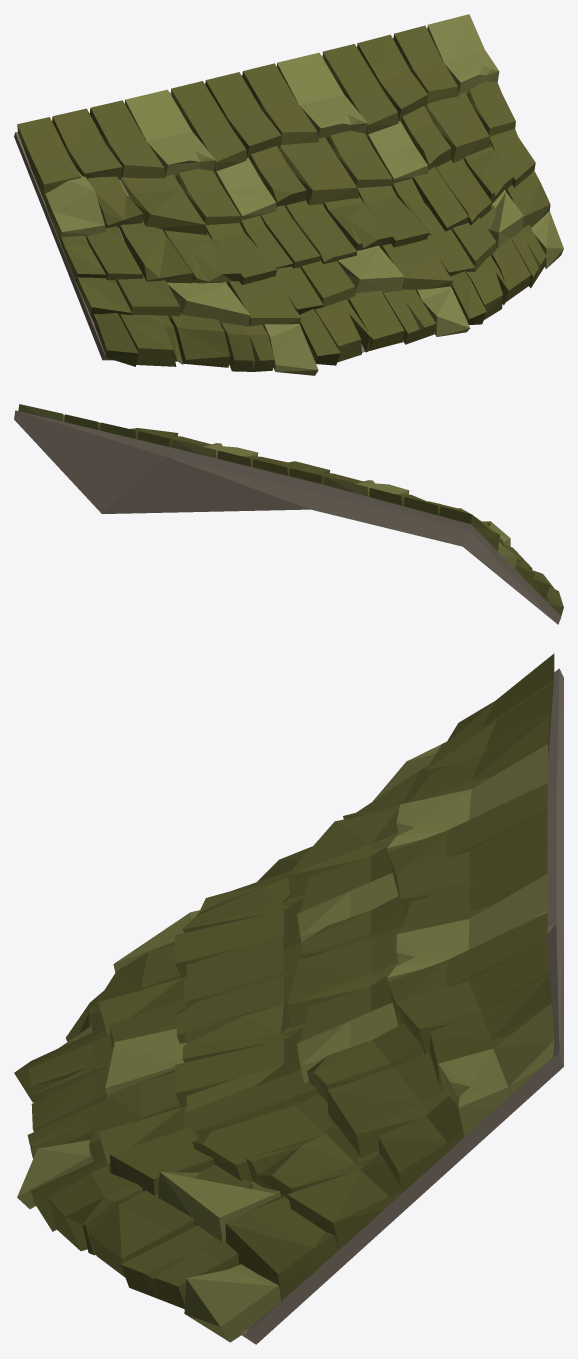
The model's file is _ROOF_base_round_1.fbx.
3 renders of one model, top to bottom at view 1: azimuth 30°, elevation 25°; view 2: azimuth 150°, elevation 25°; view 3: azimuth 270°, elevation 25°, orthographic. The views are drawn at different scales.
Visible parts, largest first — view 1: ROOF_base_round_1; view 2: ROOF_base_round_1; view 3: ROOF_base_round_1.
Boxes of the visible parts, x1,y1,x2,y2 form: ROOF_base_round_1: [14, 14, 563, 375]; ROOF_base_round_1: [14, 404, 563, 624]; ROOF_base_round_1: [14, 653, 563, 1344].
Bounding box in the file's own units: 301 × 112 × 179.
